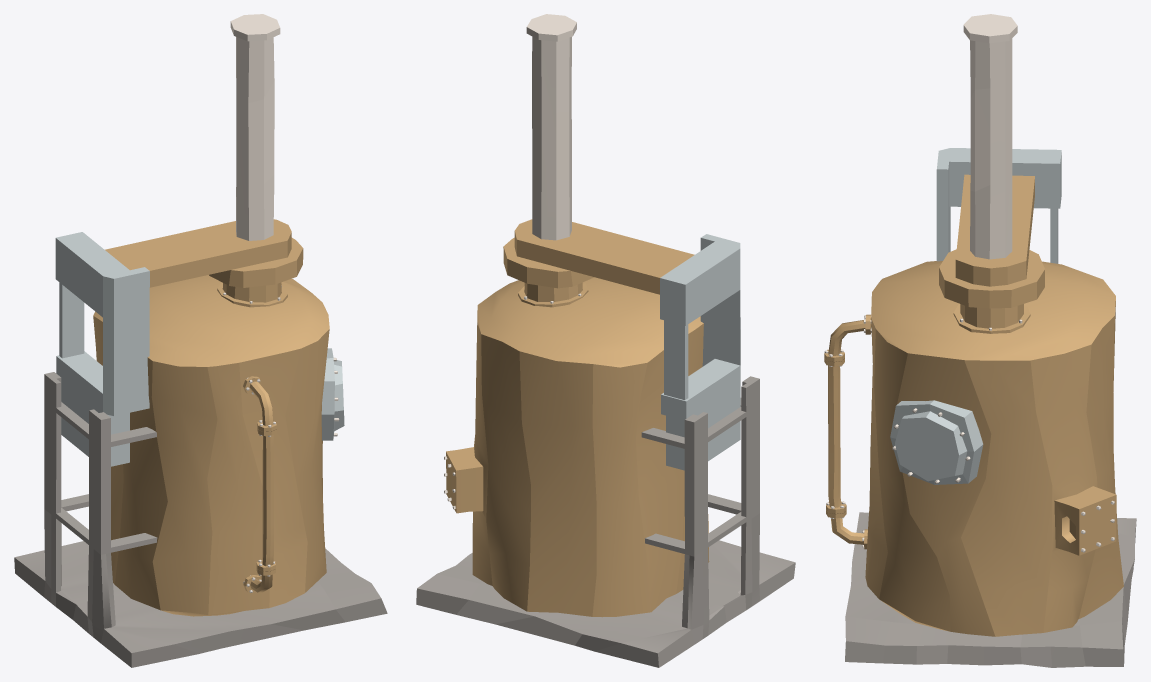
File: Boiler_UV.fbx
The picture shows the model from 3 angles, left to right: view 1: azimuth 30°, elevation 25°; view 2: azimuth 150°, elevation 25°; view 3: azimuth 270°, elevation 25°; orthographic projection. The views are drawn at different scales.
Visible parts, largest first — view 1: Boiler; view 2: Boiler; view 3: Boiler.
Part boxes in pixels (left/top/right/bottom): Boiler: left=14, top=14, right=387, bottom=667; Boiler: left=416, top=14, right=795, bottom=667; Boiler: left=824, top=14, right=1136, bottom=667.
Size of the model in its own units: 374 by 360 by 768.
